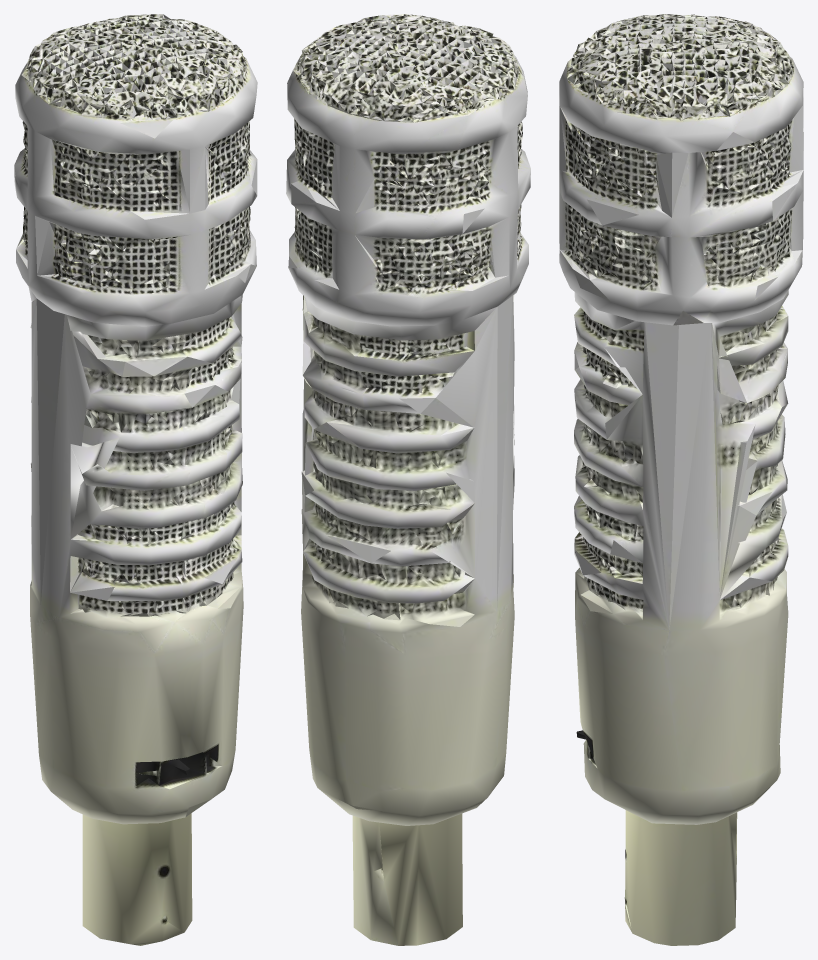
3 views of the same model, side by side, from view 1: azimuth 30°, elevation 25°; view 2: azimuth 150°, elevation 25°; view 3: azimuth 270°, elevation 25° (orthographic).
Visible parts, largest first — view 1: ev-re20-body; view 2: ev-re20-body; view 3: ev-re20-body.
Part boxes in pixels (x1,y1,x2,y2): ev-re20-body: (14, 14, 257, 945); ev-re20-body: (286, 14, 530, 945); ev-re20-body: (559, 14, 803, 945).
Size of the model in its own units: 0.0544 by 0.2167 by 0.0544.
Materials: 1 (1 with a texture image).
